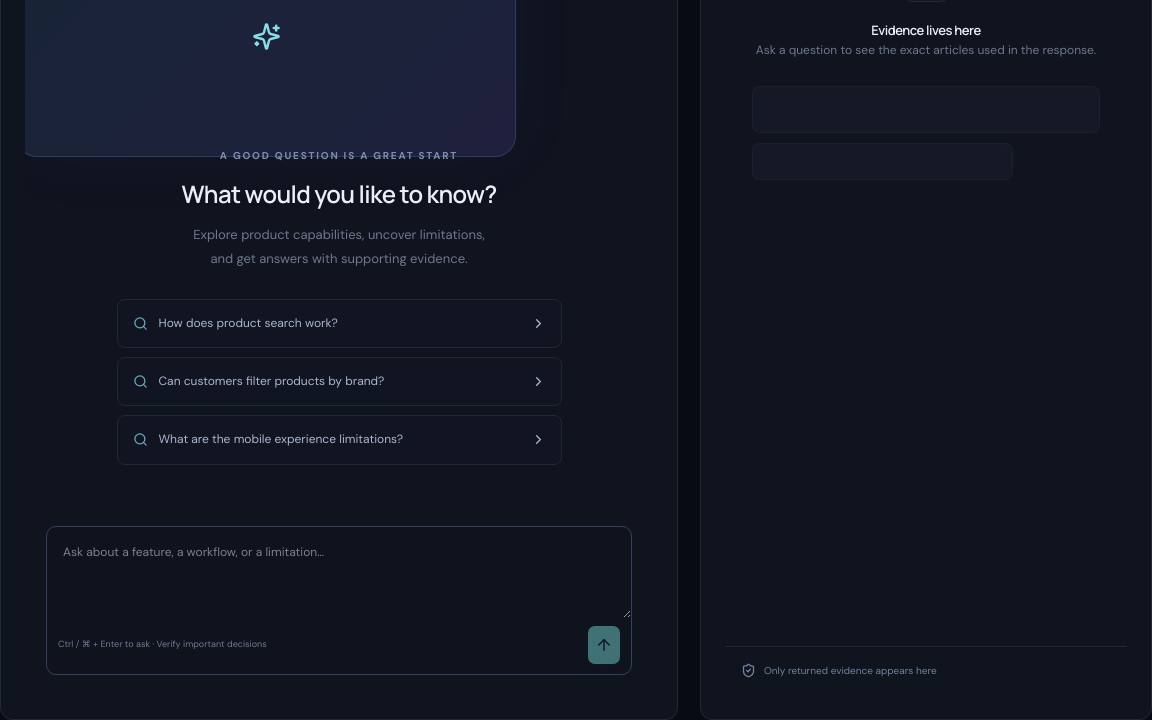
Test: working product screens › shows actual escalation details rather than simulating expert delivery
(page scrolled)
Step 1. Type "Unknown capability" into the text box named "Ask a question" → (339, 572), box [47,526,631,618]
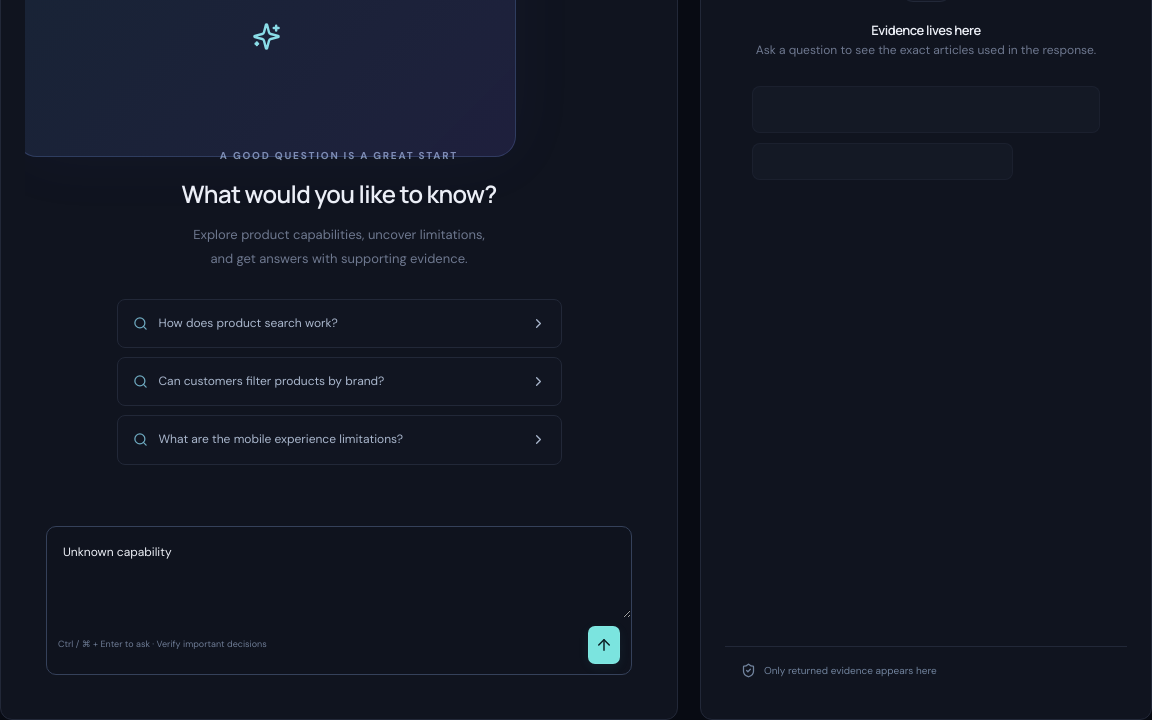
Step 2. Click the button named "Ask question" → (604, 644), box [588,626,620,664]
(page scrolled)
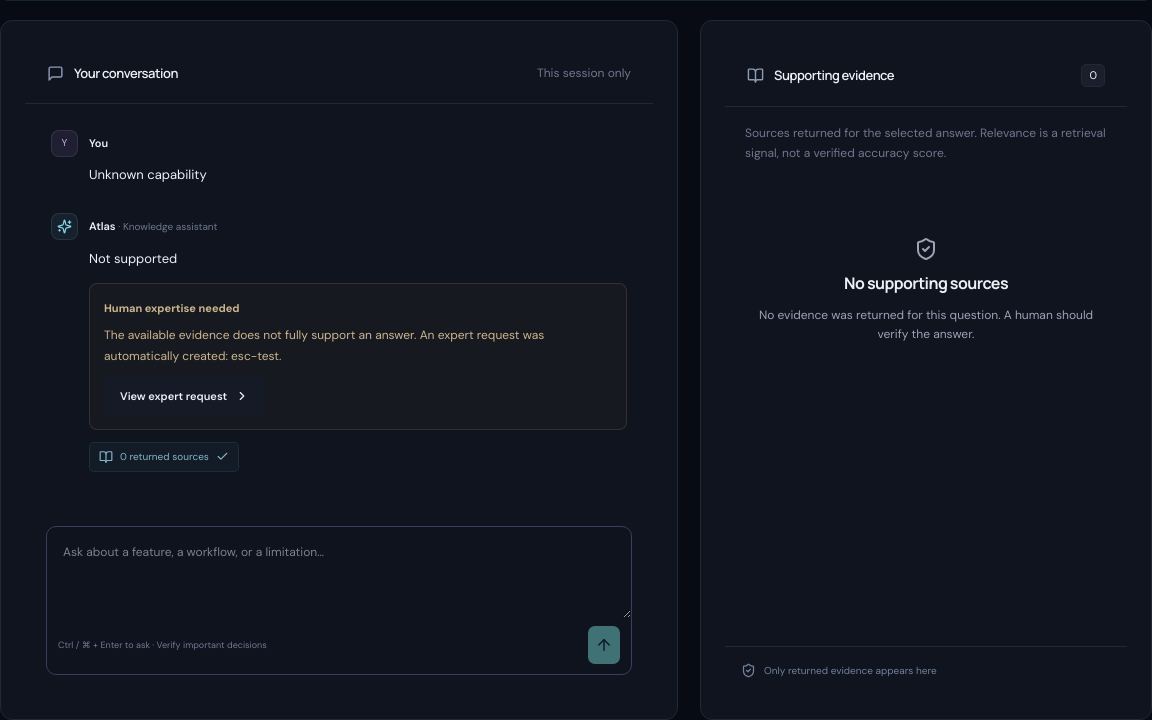
Step 3. Click the button "View expert request" → (185, 396), box [104,377,265,415]
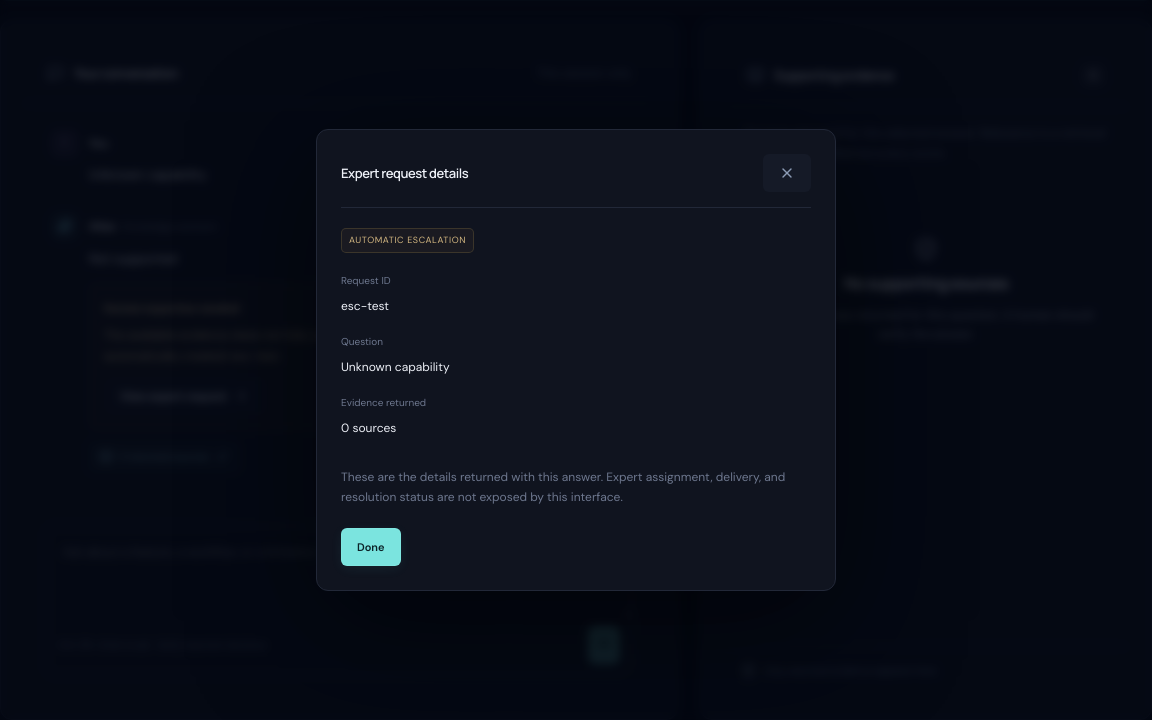
Now the dialog is shown, box [316,129,836,591]
Now the text "esc-test" is shown, box [341,298,389,314]
